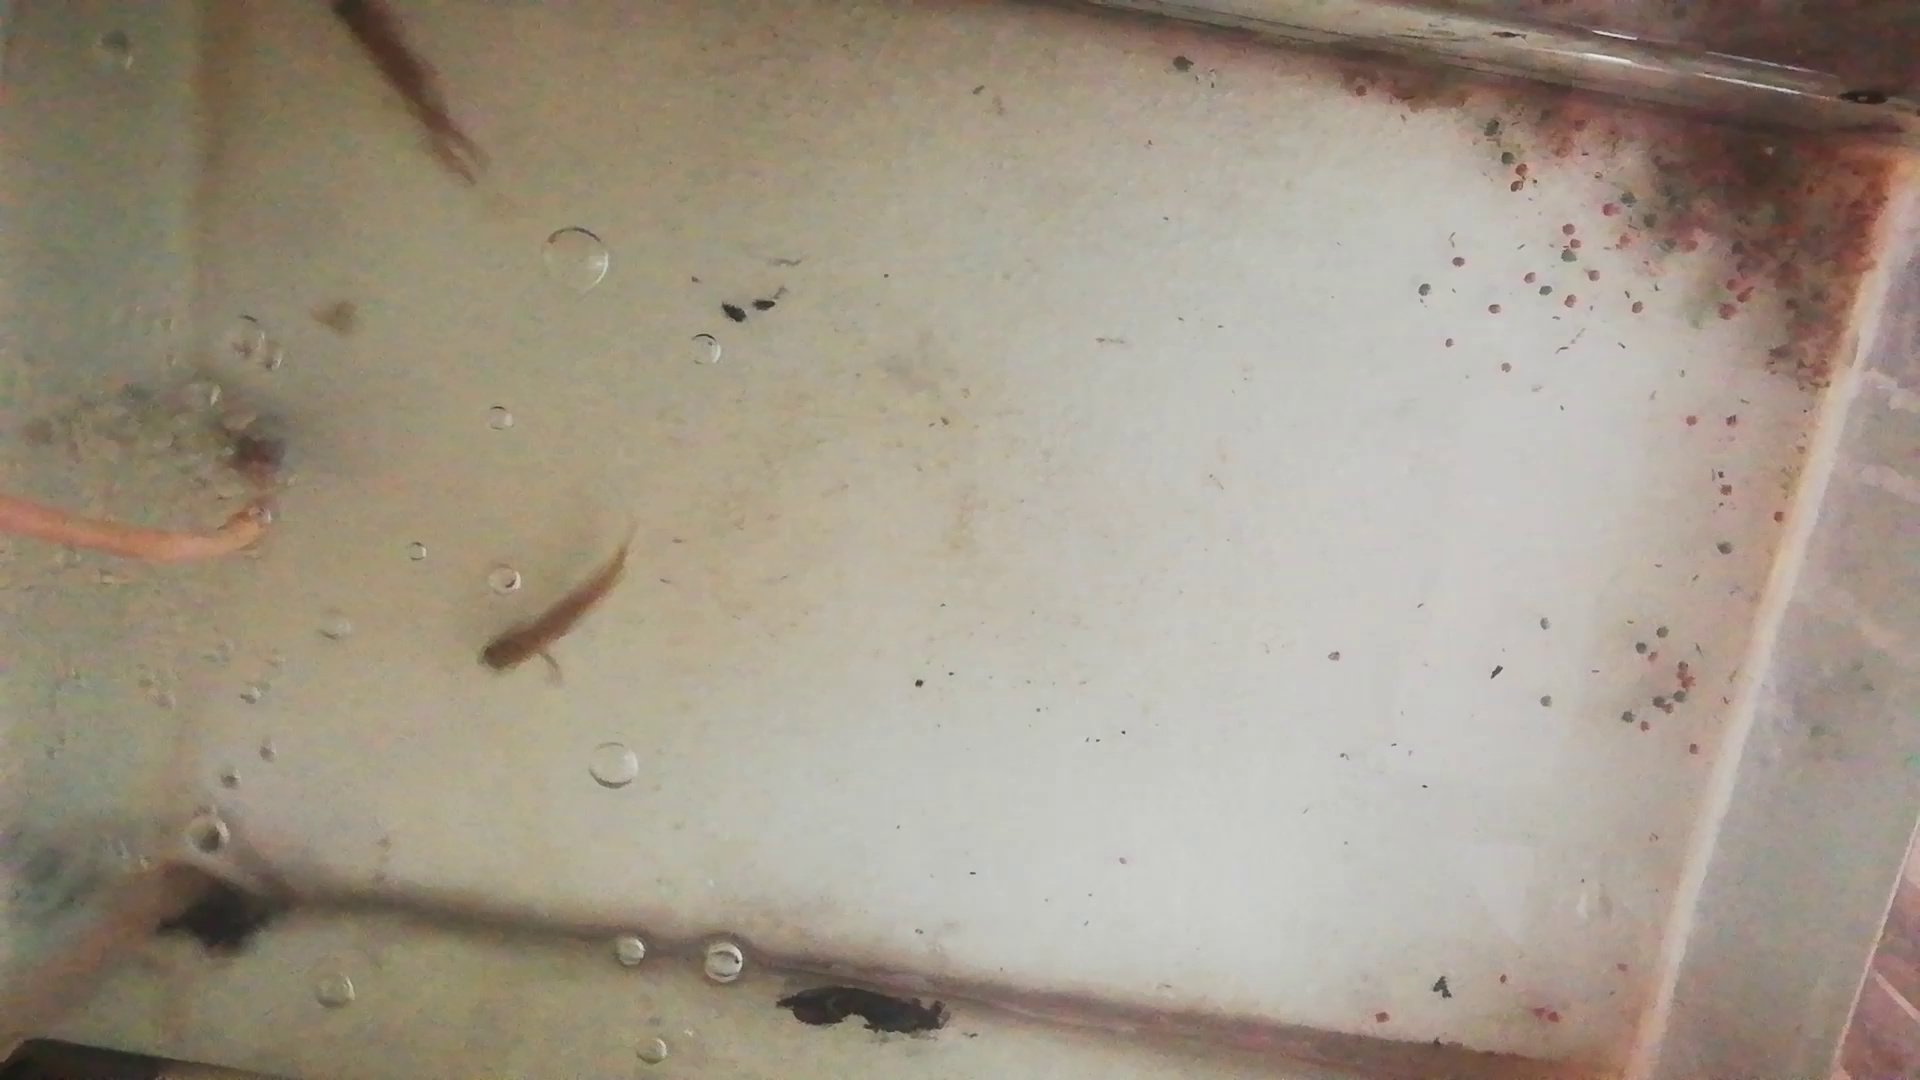fish: (320, 1, 467, 179), (480, 553, 628, 673)
